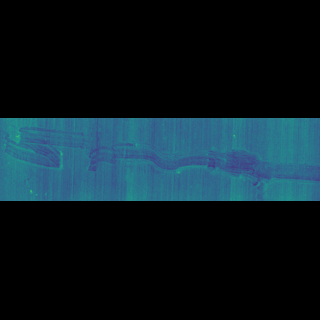Loch: (86, 155, 319, 166), (1, 150, 101, 163)
